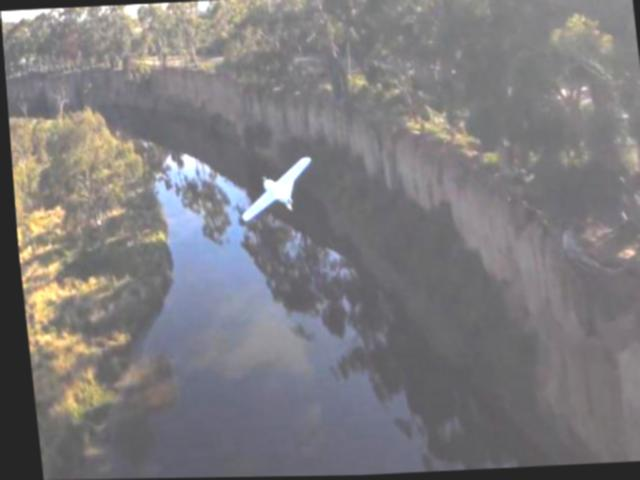iha: (235, 160, 314, 221)
